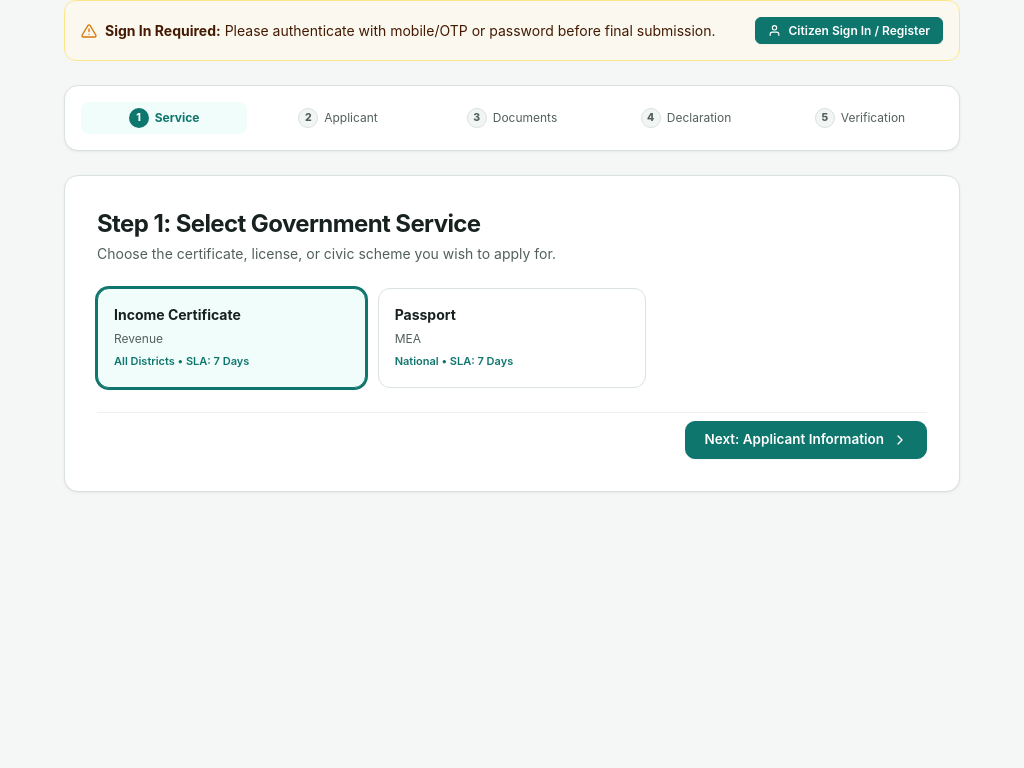
ApplicationBuilder Authentication & Gating Tests › renders Step 1 with empty applicant defaults
The width and height of the screenshot is (1024, 768).
expect the heading "Step 1: Select Government Service" is shown: met, box x1=97 y1=209 x2=481 y2=238
expect the text "Income Certificate" is shown: met, box x1=114 y1=306 x2=241 y2=323
# Advance to Step 2
Click the button "Next: Applicant Information": (806, 440) x1=685 y1=421 x2=927 y2=459
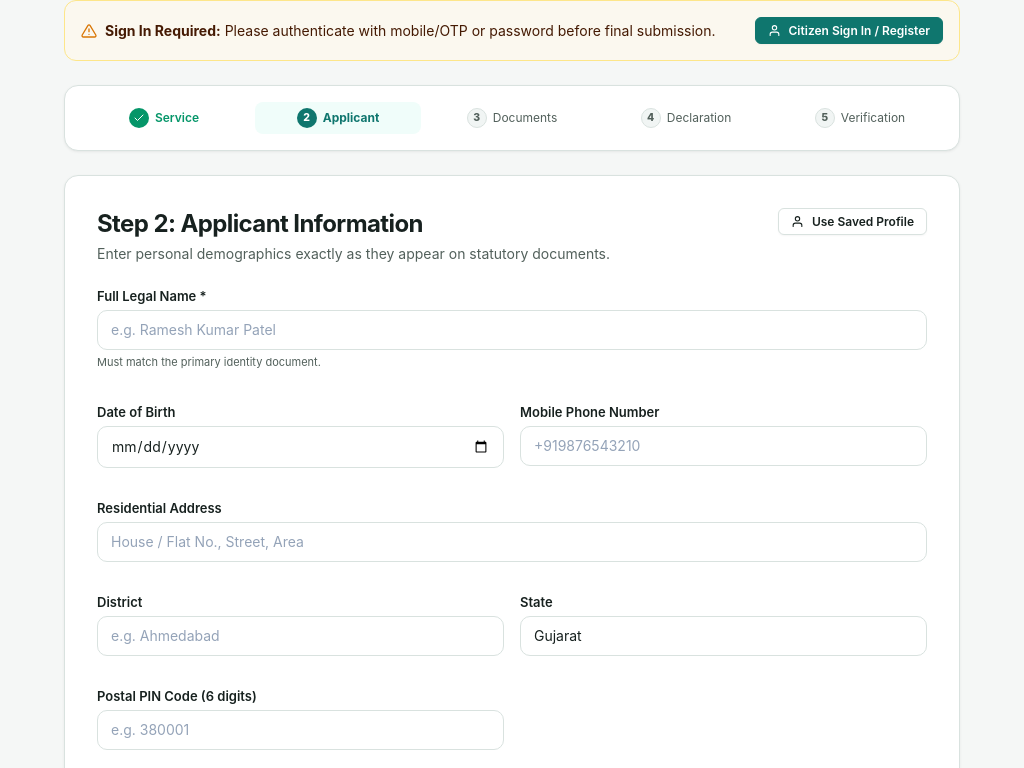
expect the heading "Step 2: Applicant Information" is shown: met, box x1=97 y1=209 x2=423 y2=238
expect the field with placeholder "e.g. Ramesh Kumar Patel" is empty: met, box x1=97 y1=310 x2=927 y2=350
expect the field with placeholder "+919876543210" is empty: met, box x1=520 y1=426 x2=927 y2=466
